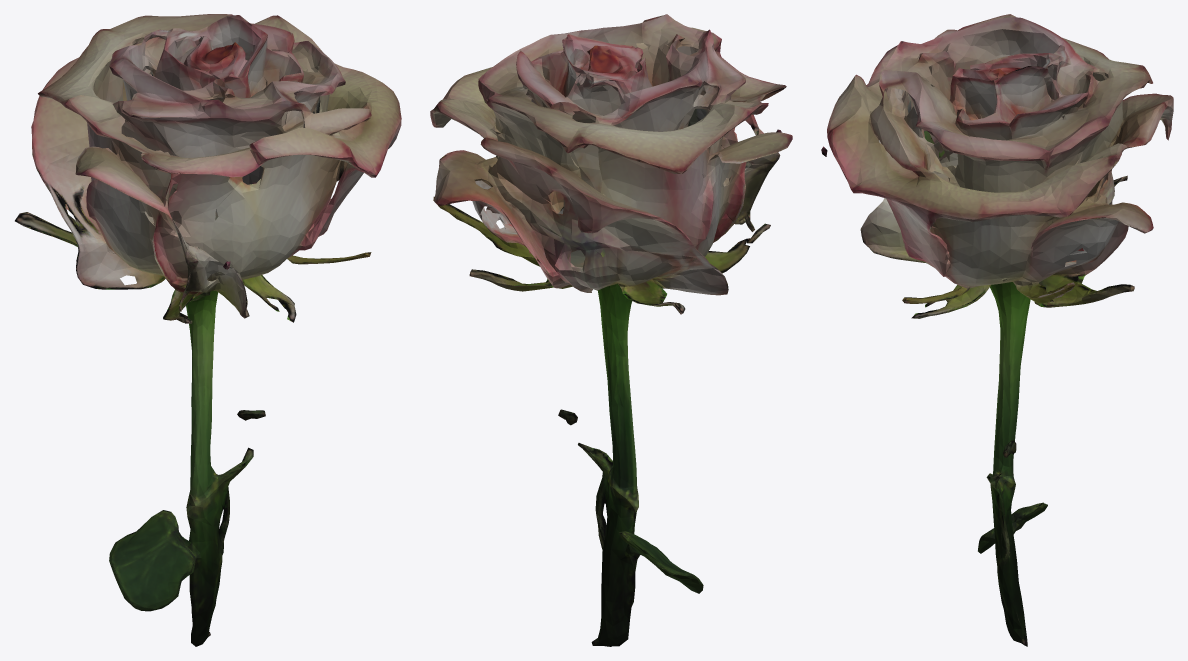
3 views of the same model, side by side, from view 1: azimuth 30°, elevation 25°; view 2: azimuth 150°, elevation 25°; view 3: azimuth 270°, elevation 25° (orthographic). The views are drawn at different scales.
Parts seen in each view (by area): view 1: world; view 2: world; view 3: world.
Boxes of the visible parts, box(x1,y1,x2,y2) form: world: box(15, 14, 401, 646); world: box(430, 14, 792, 646); world: box(821, 14, 1173, 646).
Bounding box in the file's own units: 0.529 × 0.9482 × 0.5079.
1 material, 1 textured.
